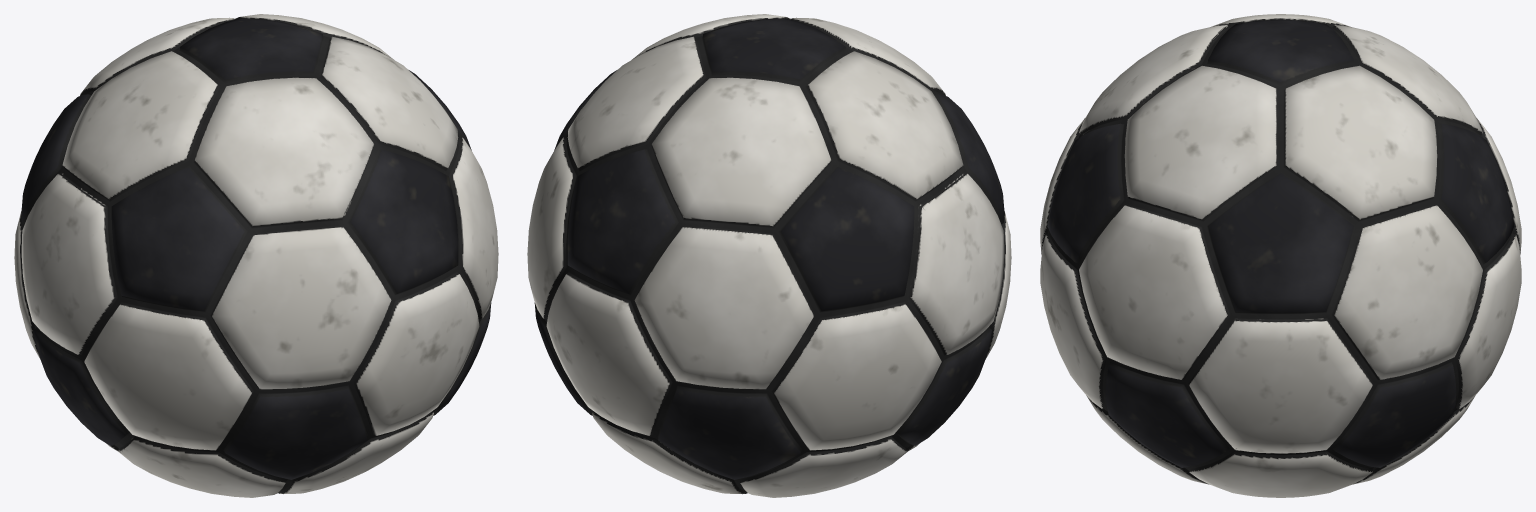
The model's file is NH_SoccerBall.fbx.
3 renders of one model, left to right at view 1: azimuth 30°, elevation 25°; view 2: azimuth 150°, elevation 25°; view 3: azimuth 270°, elevation 25°, orthographic.
Parts seen in each view (by area): view 1: NH_SoccerBall; view 2: NH_SoccerBall; view 3: NH_SoccerBall.
Part boxes in pixels (x1,y1,x2,y2): NH_SoccerBall: [14, 14, 498, 497]; NH_SoccerBall: [527, 14, 1011, 497]; NH_SoccerBall: [1040, 14, 1521, 497].
Size of the model in its own units: 99.99 by 100 by 99.36.
